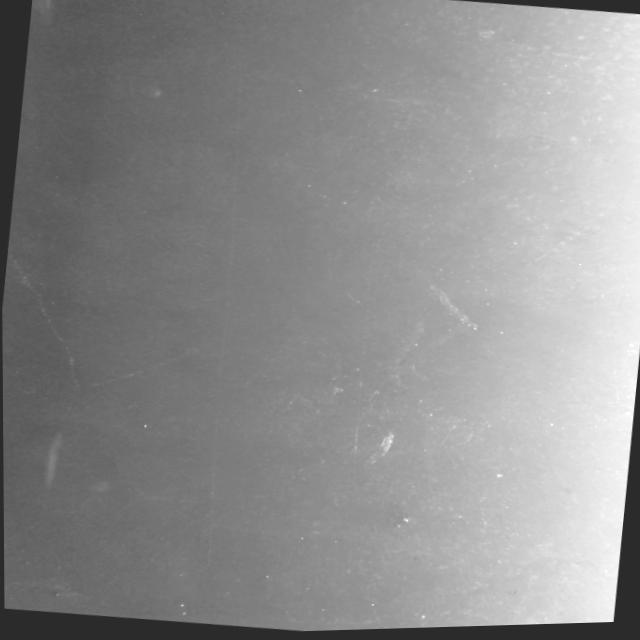beta: (1, 241, 99, 390), (66, 333, 201, 404), (526, 203, 610, 274), (355, 91, 455, 112), (472, 488, 492, 537)
